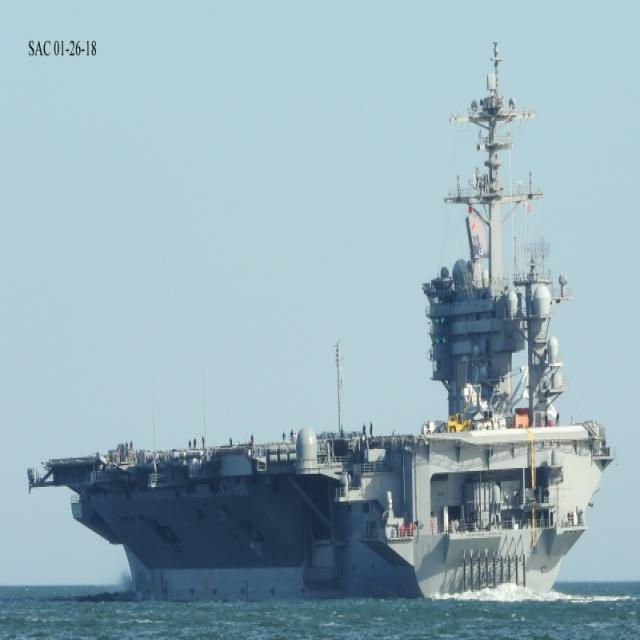Portanaves: (31, 37, 620, 612)
